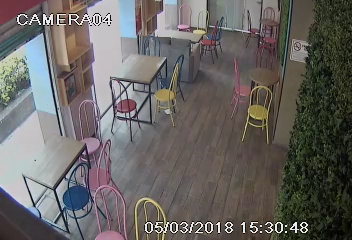libre: (10, 108, 119, 217), (109, 44, 190, 129), (144, 10, 229, 58), (230, 53, 280, 134), (241, 4, 290, 54)
